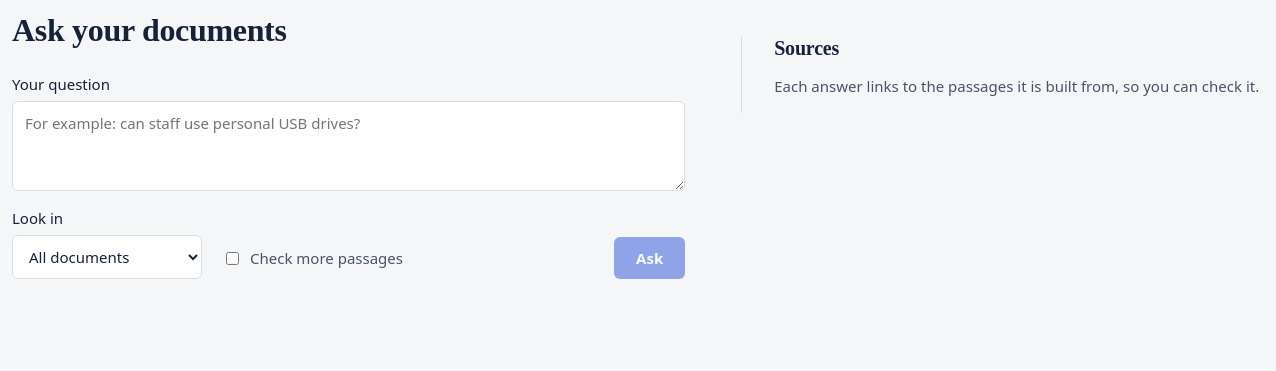
Test: Ask › shows the server's message when the question fails
Type "Can staff use USB drives?" into the text box labelled "Your question". click: [349, 146]
box: [12,101,685,191]
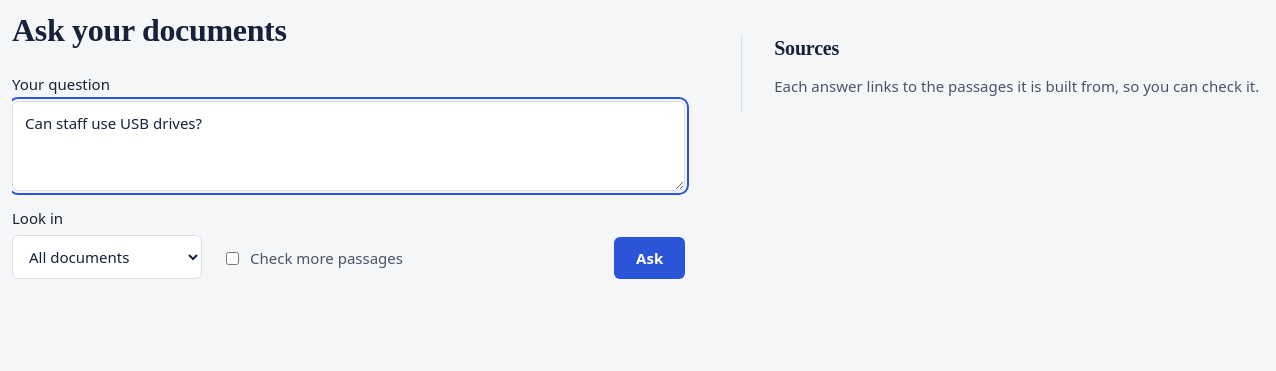
Click the button "Ask". click: [650, 258]
box: [614,237,685,279]
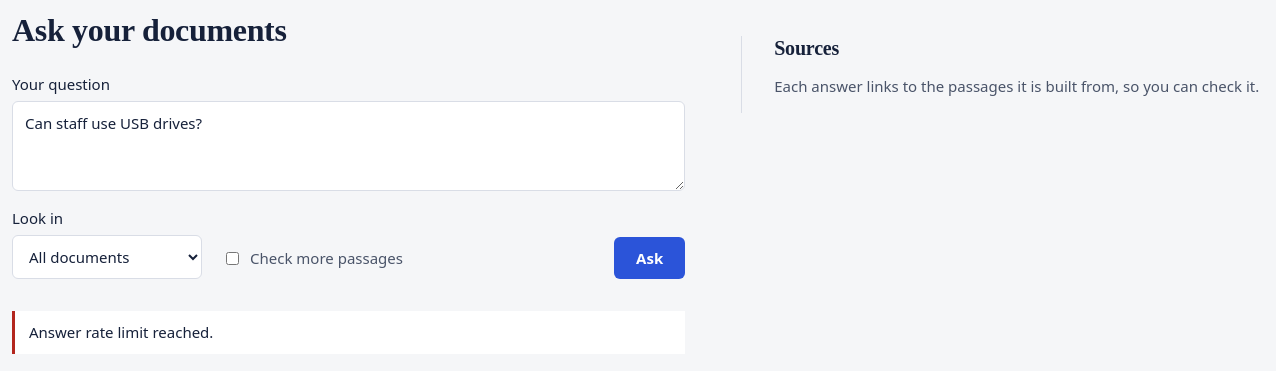
Expected: the message reads "Answer rate limit reached.", [29,322,213,342]
